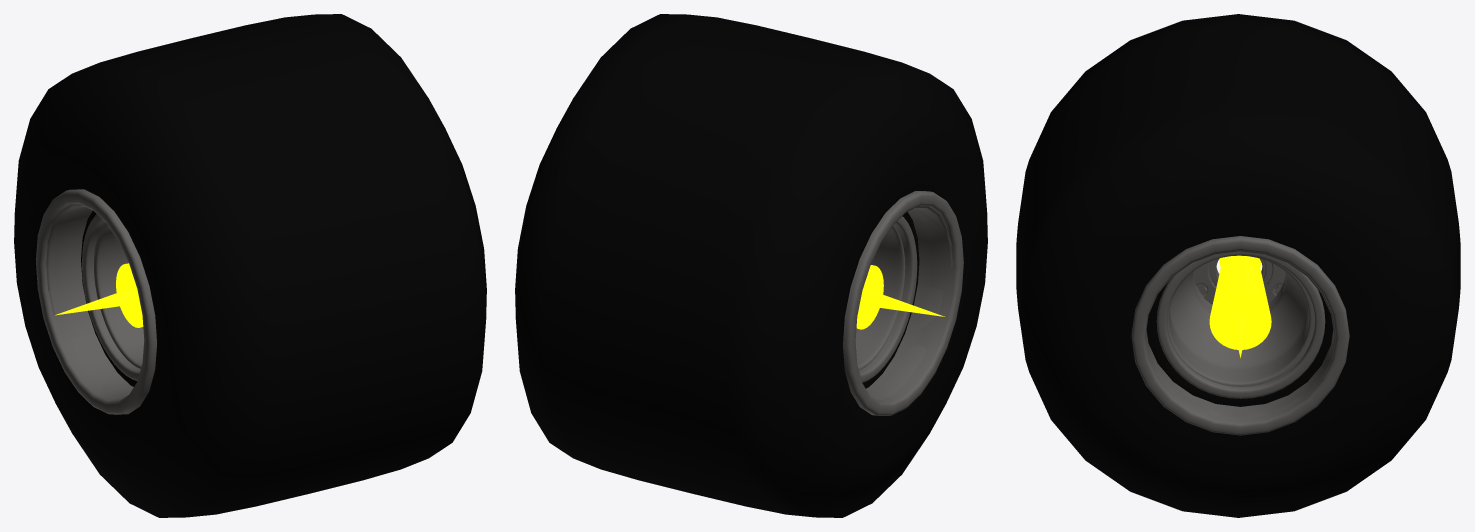
Rendered from llantas de auto naranja 1.fbx.
3 renders of one model, left to right at view 1: azimuth 30°, elevation 25°; view 2: azimuth 150°, elevation 25°; view 3: azimuth 270°, elevation 25°, orthographic. The views are drawn at different scales.
Parts seen in each view (by area): view 1: Cone.008, Cone.001, TC_RT_Kart_Basic_Slick.001, TC_RT_Kart_Basic_Slick.010; view 2: Cone.008, Cone.001, TC_RT_Kart_Basic_Slick.001, TC_RT_Kart_Basic_Slick.010; view 3: Cone.001, Cone.008, TC_RT_Kart_Basic_Slick.001, TC_RT_Kart_Basic_Slick.010.
Part boxes in pixels (x1,y1,x2,y2): Cone.008: (14, 37, 368, 517); Cone.001: (46, 14, 486, 493); TC_RT_Kart_Basic_Slick.001: (94, 223, 143, 368); TC_RT_Kart_Basic_Slick.010: (81, 210, 144, 386); Cone.008: (633, 37, 987, 517); Cone.001: (515, 14, 952, 493); TC_RT_Kart_Basic_Slick.001: (856, 225, 905, 370); TC_RT_Kart_Basic_Slick.010: (855, 212, 919, 388); Cone.001: (1016, 64, 1460, 517); Cone.008: (1016, 14, 1460, 418); TC_RT_Kart_Basic_Slick.001: (1146, 251, 1333, 406); TC_RT_Kart_Basic_Slick.010: (1167, 255, 1314, 386).
Size of the model in its own units: 43.99 by 45.82 by 45.82.
